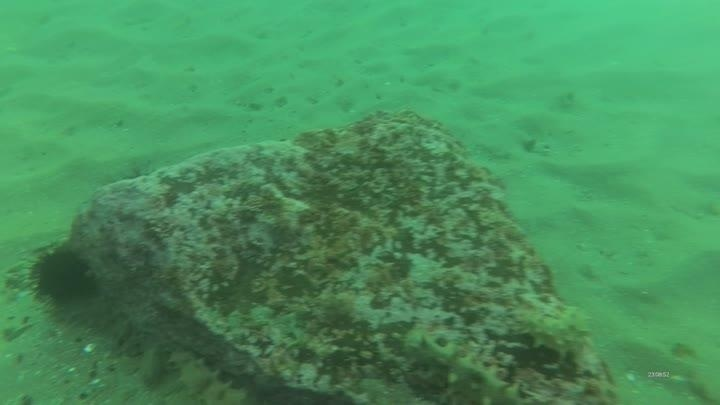echinus: (23, 238, 102, 310)
holothurian: (397, 329, 521, 404), (161, 344, 251, 404), (509, 301, 594, 359), (50, 293, 139, 344)
